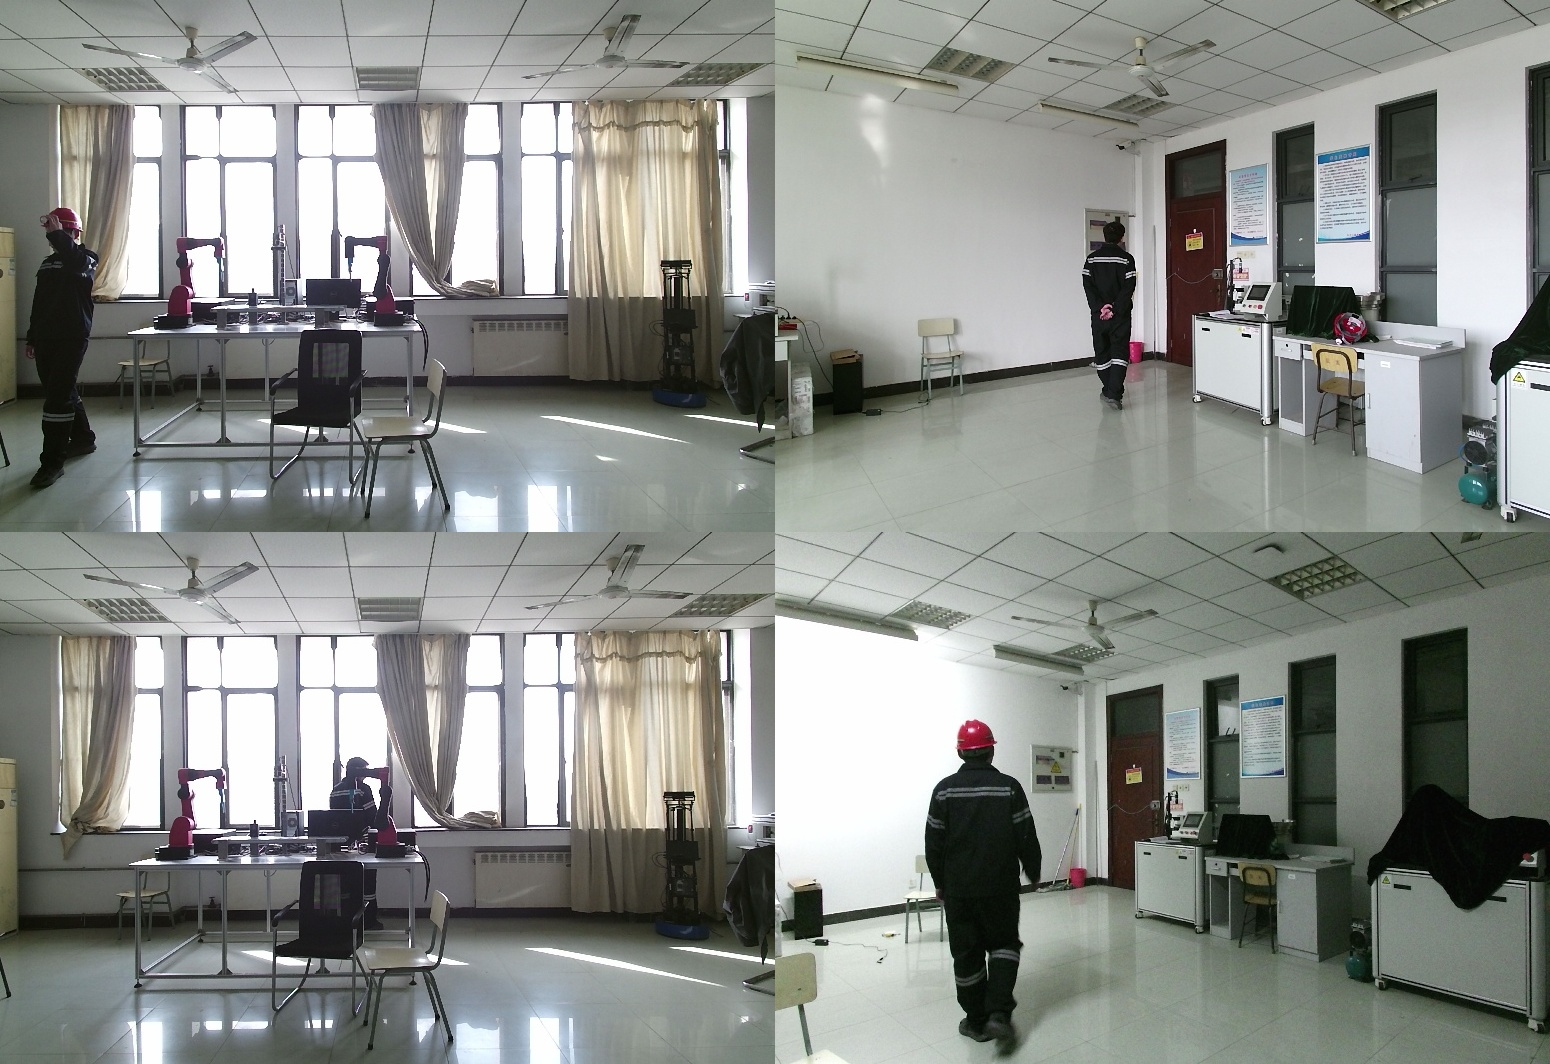person: (925, 721, 1051, 1064), (25, 210, 101, 489), (1078, 222, 1145, 417), (332, 758, 392, 935)
